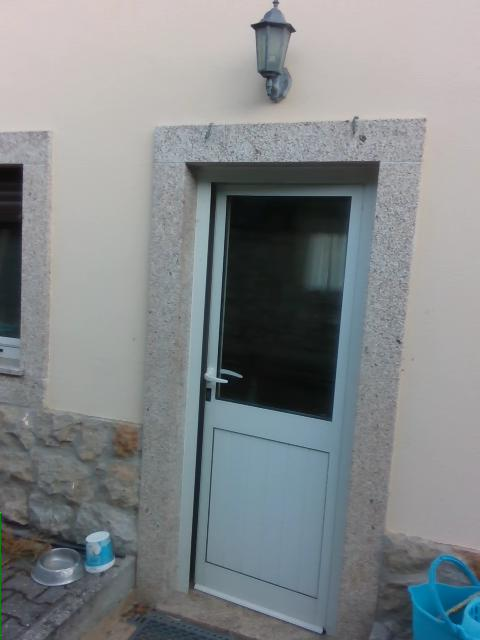closed_door: (175, 161, 378, 638)
